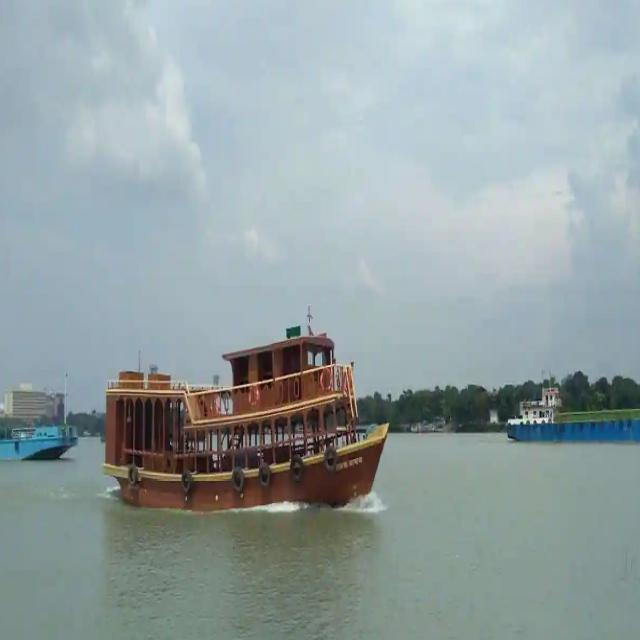cargoship: (495, 387, 640, 464)
